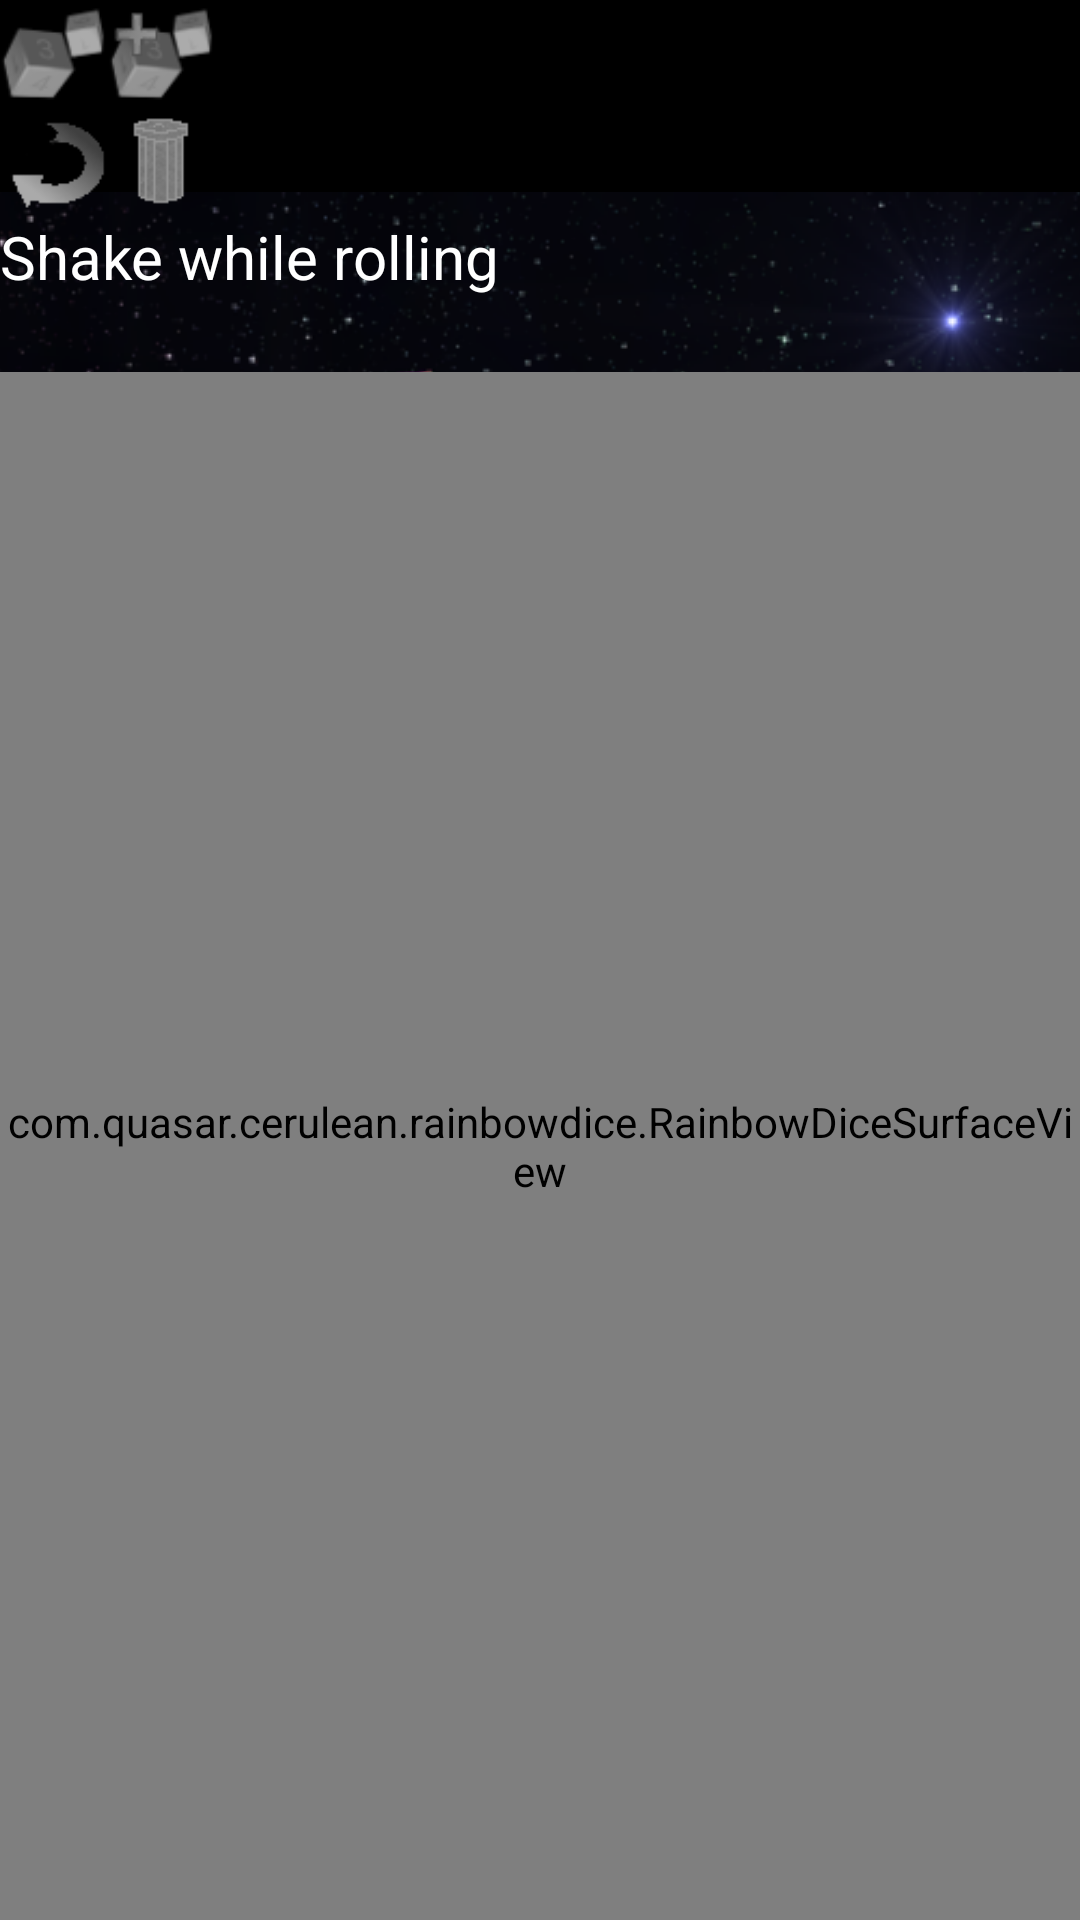

Icons on this 1080 × 1920 Android screen, each with the point to tap as (x,y):
drop changes grayscale: (58,169)
plus rolling dice grayscale: (161,54)
rolling dice grayscale: (53,54)
trash grayscale: (170,166)
